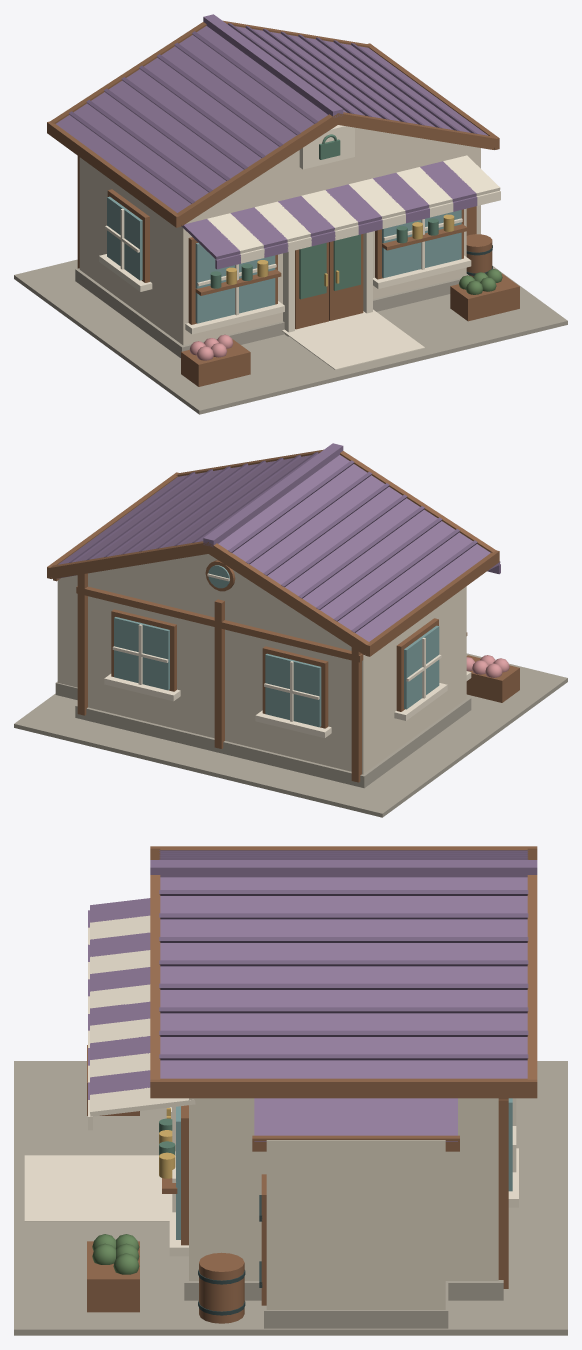
The model's file is village-shop.glb.
3 views of the same model, one above another, from view 1: azimuth 30°, elevation 25°; view 2: azimuth 150°, elevation 25°; view 3: azimuth 270°, elevation 25° (orthographic). The views are drawn at different scales.
Visible parts, largest first — view 1: lavender, stone, ivory, trim, wood, lavenderShade, glass, door-leaf-1, door-inlay--1, door-inlay-1, door-leaf--1, sage (+3 smaller); view 2: ivory, lavender, stone, wood, lavenderShade, glass, trim, rose; view 3: lavender, ivory, stone, wood, lavenderShade, trim, leaf, glass, dark.
Part boxes in pixels (left/top/right/bottom): lavender: left=56, top=14, right=487, bottom=269; stone: left=14, top=259, right=567, bottom=414; ivory: left=79, top=127, right=480, bottom=345; trim: left=99, top=125, right=500, bottom=369; wood: left=47, top=20, right=519, bottom=386; lavenderShade: left=69, top=23, right=477, bottom=203; glass: left=107, top=196, right=461, bottom=323; door-leaf-1: left=329, top=234, right=363, bottom=320; door-inlay--1: left=299, top=243, right=326, bottom=299; door-inlay-1: left=333, top=234, right=360, bottom=290; door-leaf--1: left=295, top=242, right=328, bottom=329; sage: left=210, top=134, right=438, bottom=288; ivory: left=57, top=554, right=466, bottom=774; lavender: left=57, top=443, right=500, bottom=641; stone: left=14, top=653, right=567, bottom=817; wood: left=47, top=449, right=519, bottom=782; lavenderShade: left=69, top=452, right=477, bottom=632; glass: left=114, top=565, right=439, bottom=727; trim: left=104, top=573, right=471, bottom=738; rose: left=466, top=655, right=509, bottom=677; lavender: left=88, top=860, right=537, bottom=1141; ivory: left=189, top=1098, right=498, bottom=1309; stone: left=14, top=1061, right=567, bottom=1335; wood: left=87, top=846, right=537, bottom=1323; lavenderShade: left=159, top=850, right=528, bottom=1060; trim: left=24, top=915, right=518, bottom=1256; leaf: left=92, top=1234, right=139, bottom=1274; glass: left=176, top=1098, right=512, bottom=1239; dark: left=198, top=1195, right=262, bottom=1315.
Bounding box in the file's own units: 7.8 × 4.57 × 6.8.
